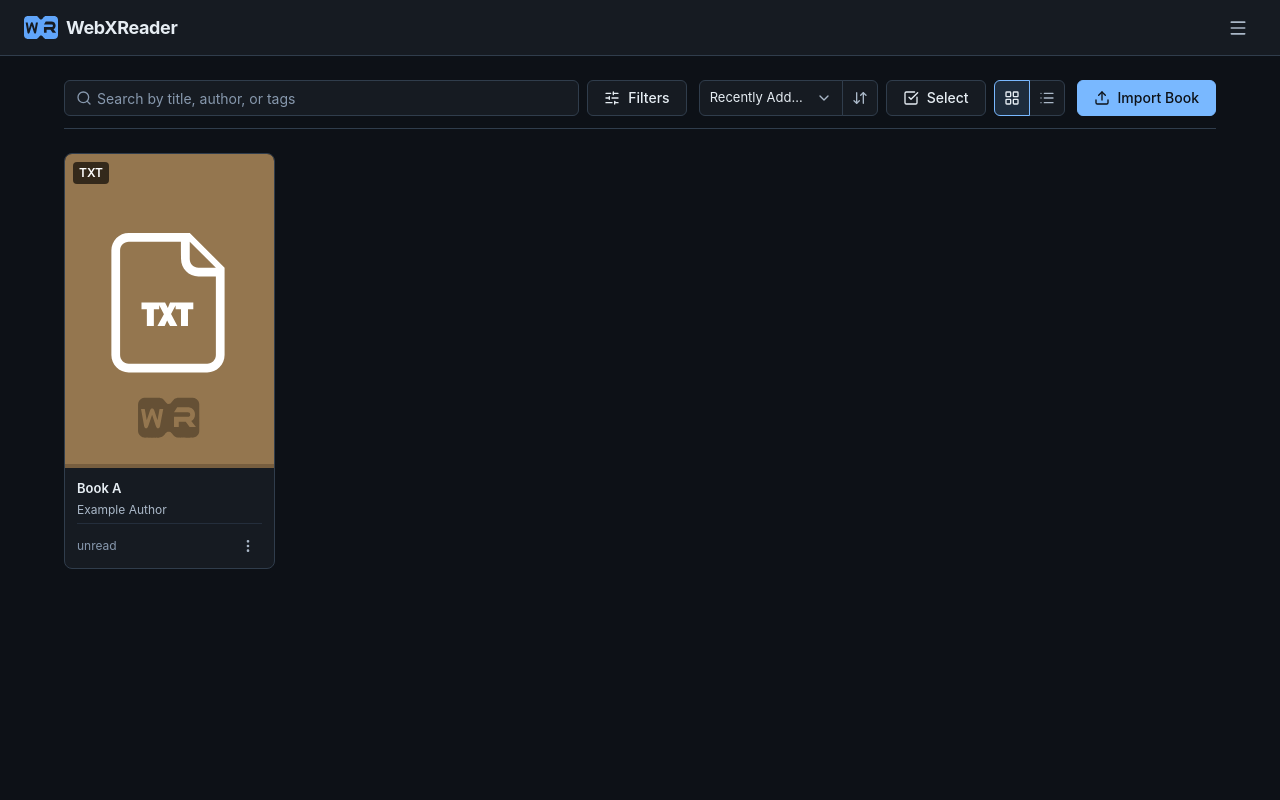
Test: Series › adds a book from the grid menu using an existing series
Click the button named "Actions for Book A" at (248, 546), box [234,532,262,560]
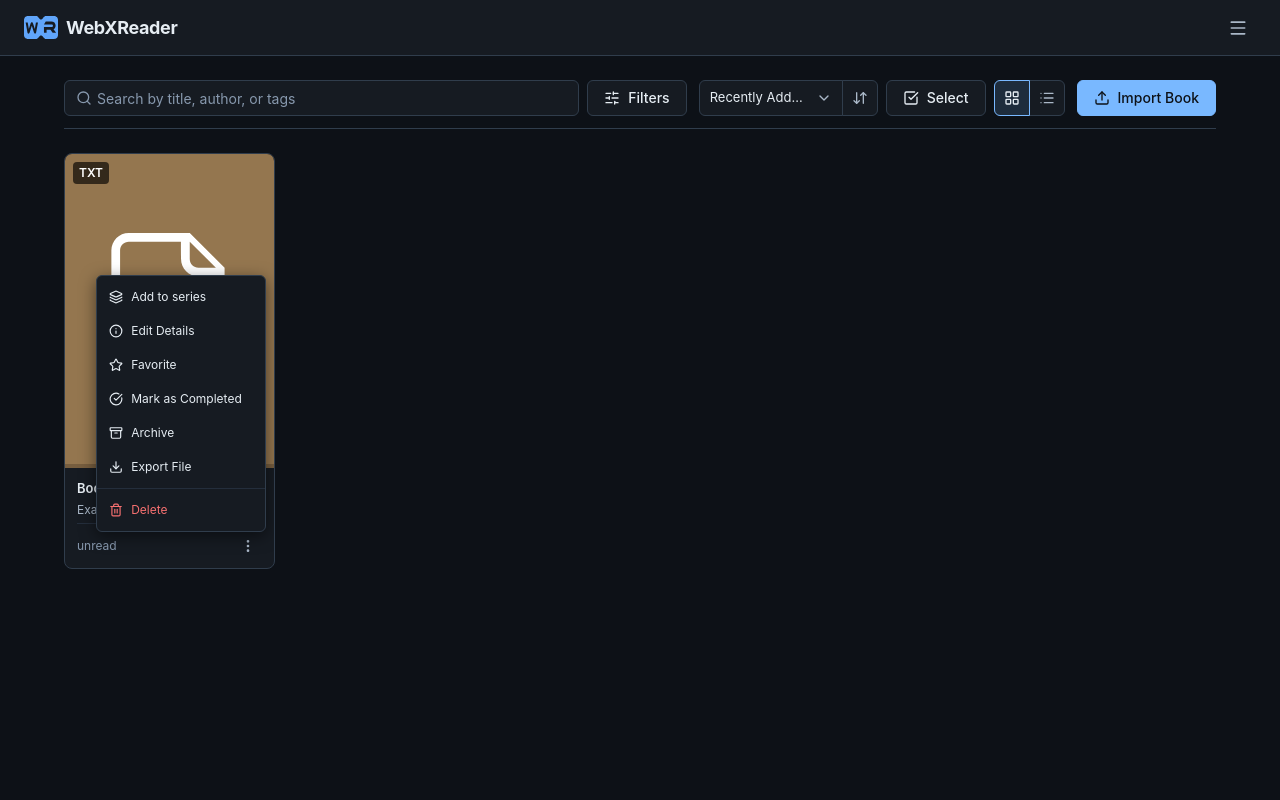
Check: the menu item "Add to series" is shown
Click the menu item "Add to series" at (181, 297), box [97,280,265,314]
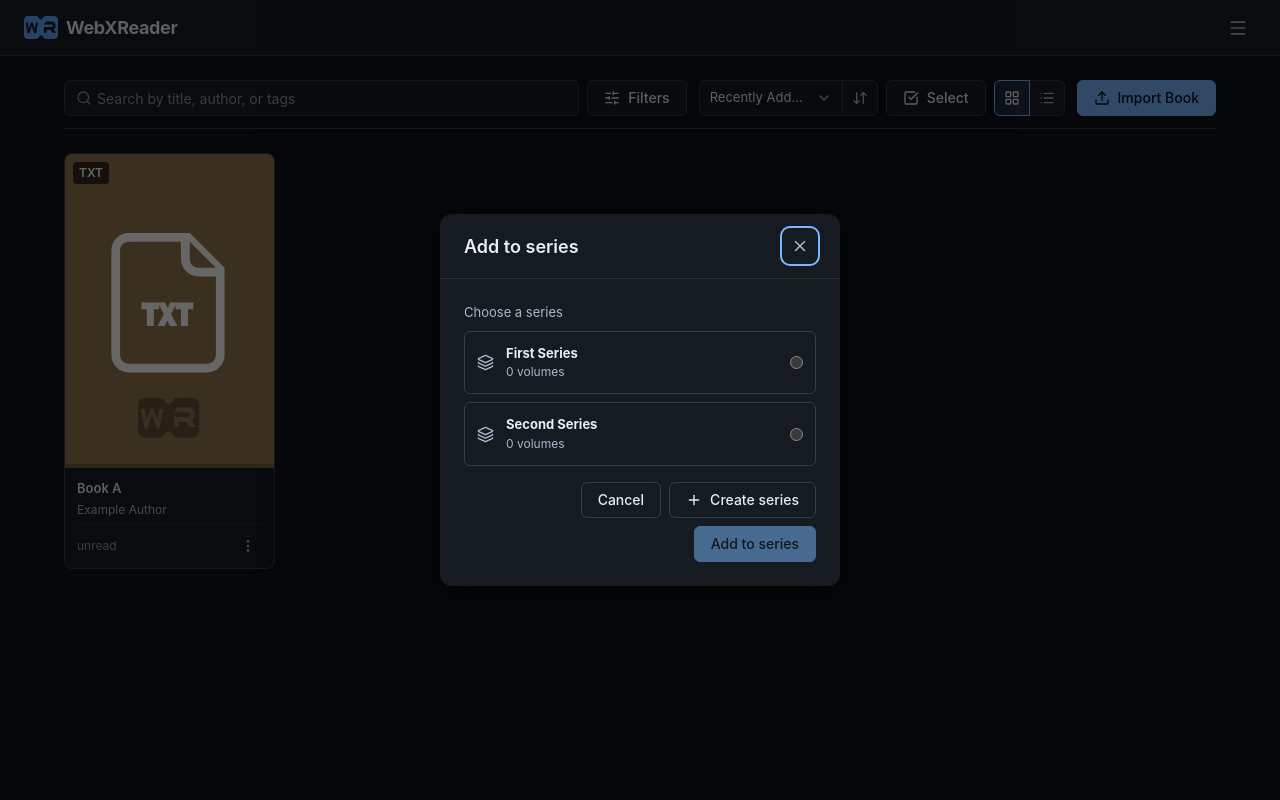
Check: the number of radio buttons is 2
Click the radio button labelled "Second Series 0 volumes" at (796, 434), box [790,428,803,440]
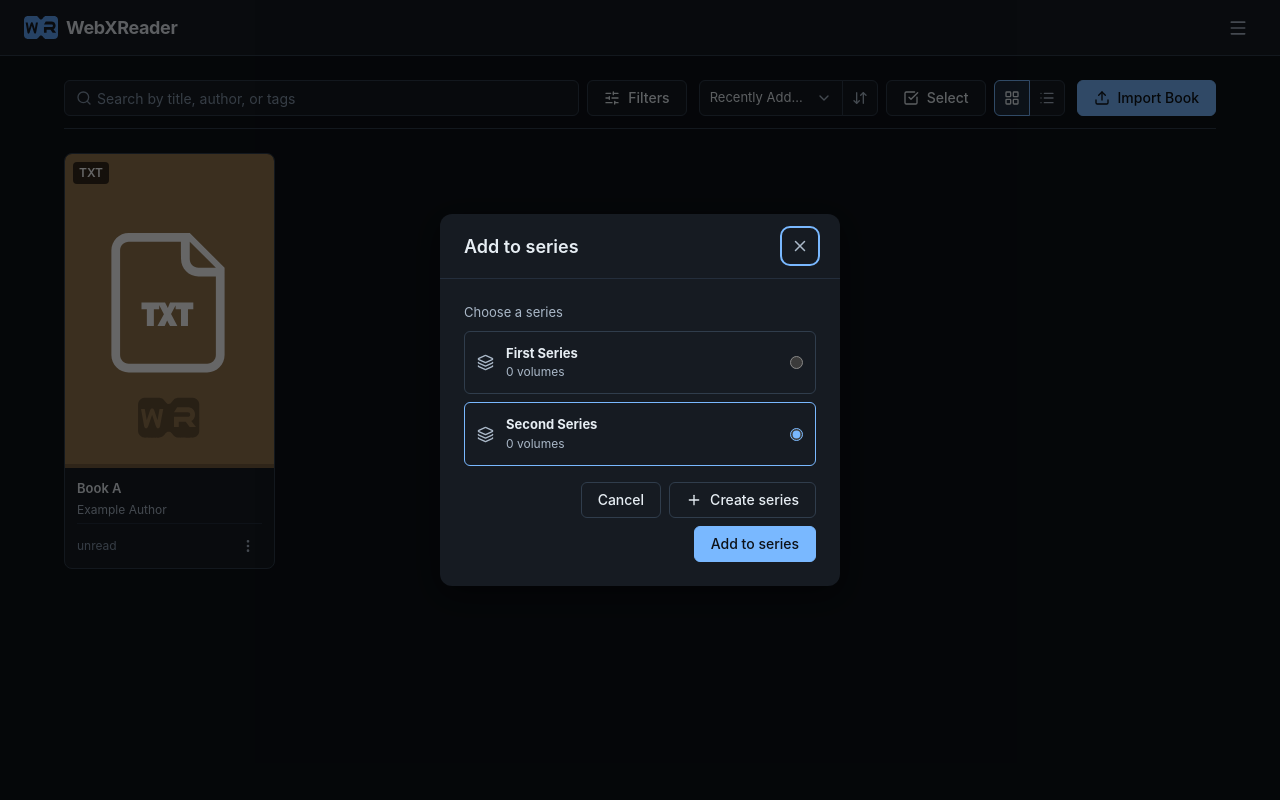
Click the button "Add to series" at (755, 544), box [694,526,816,562]
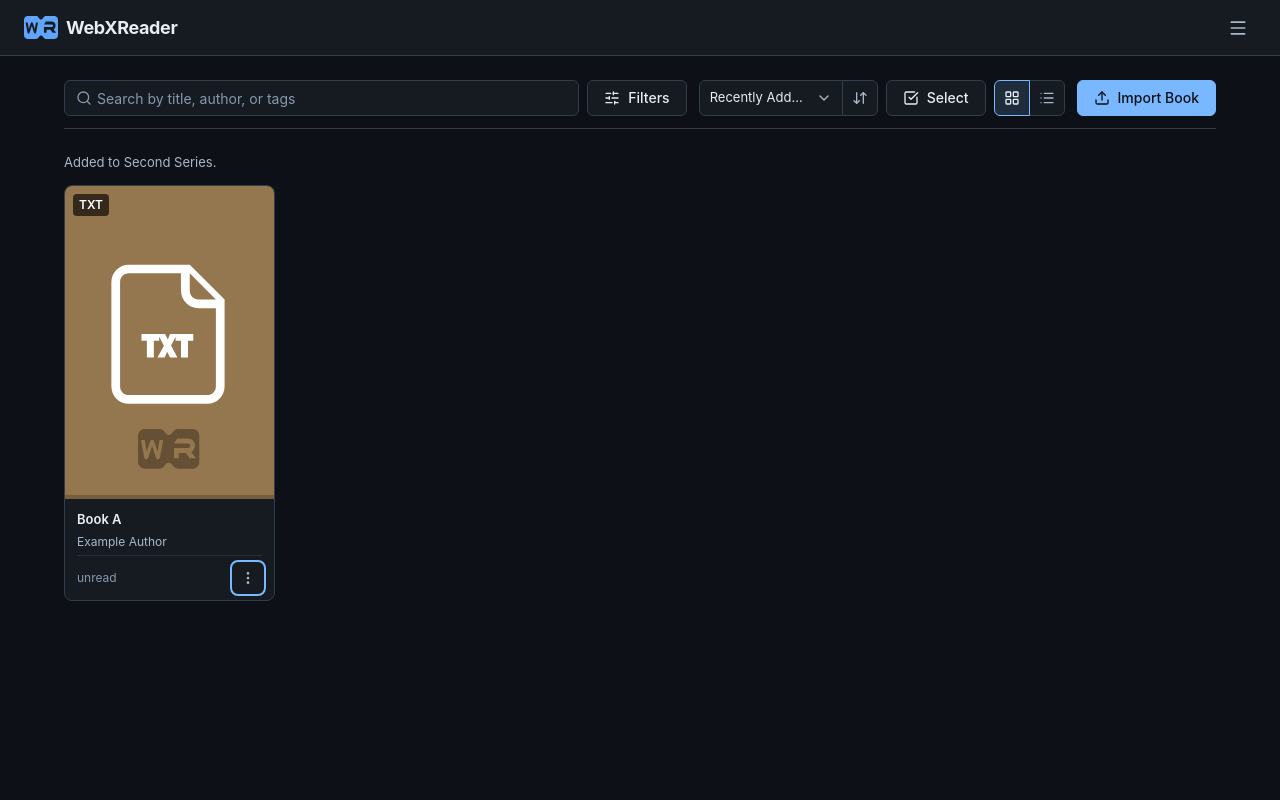
Check: the text "Added to Second Series." is shown, box [64,154,216,170]
